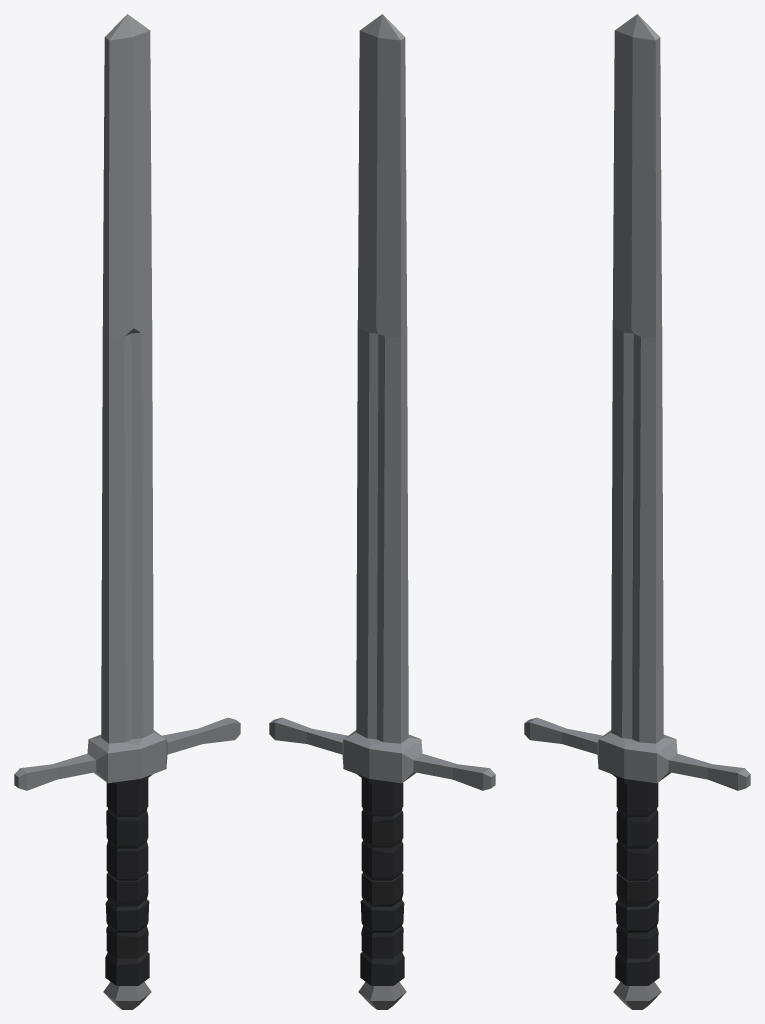
The model's file is TwoHandedSword_Stylized.glb.
3 views of the same model, side by side, from view 1: azimuth 30°, elevation 25°; view 2: azimuth 150°, elevation 25°; view 3: azimuth 330°, elevation 25° (orthographic).
Visible parts, largest first — view 1: TwoHandedSword_Stylized; view 2: TwoHandedSword_Stylized; view 3: TwoHandedSword_Stylized.
Boxes of the visible parts, x1,y1,x2,y2 form: TwoHandedSword_Stylized: (14,14,240,1009); TwoHandedSword_Stylized: (269,14,495,1009); TwoHandedSword_Stylized: (524,14,750,1009).
Size of the model in its own units: 9377 by 40068 by 1947.
1 material, 1 textured.
